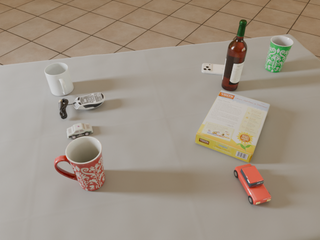bottle: (222, 20, 247, 91)
box: (195, 90, 270, 163)
cup: (54, 136, 105, 191), (265, 36, 293, 72), (45, 63, 74, 96)
mouse: (73, 93, 105, 109)
phone: (202, 63, 225, 75)
toy_car: (234, 164, 271, 205), (67, 123, 93, 139)
